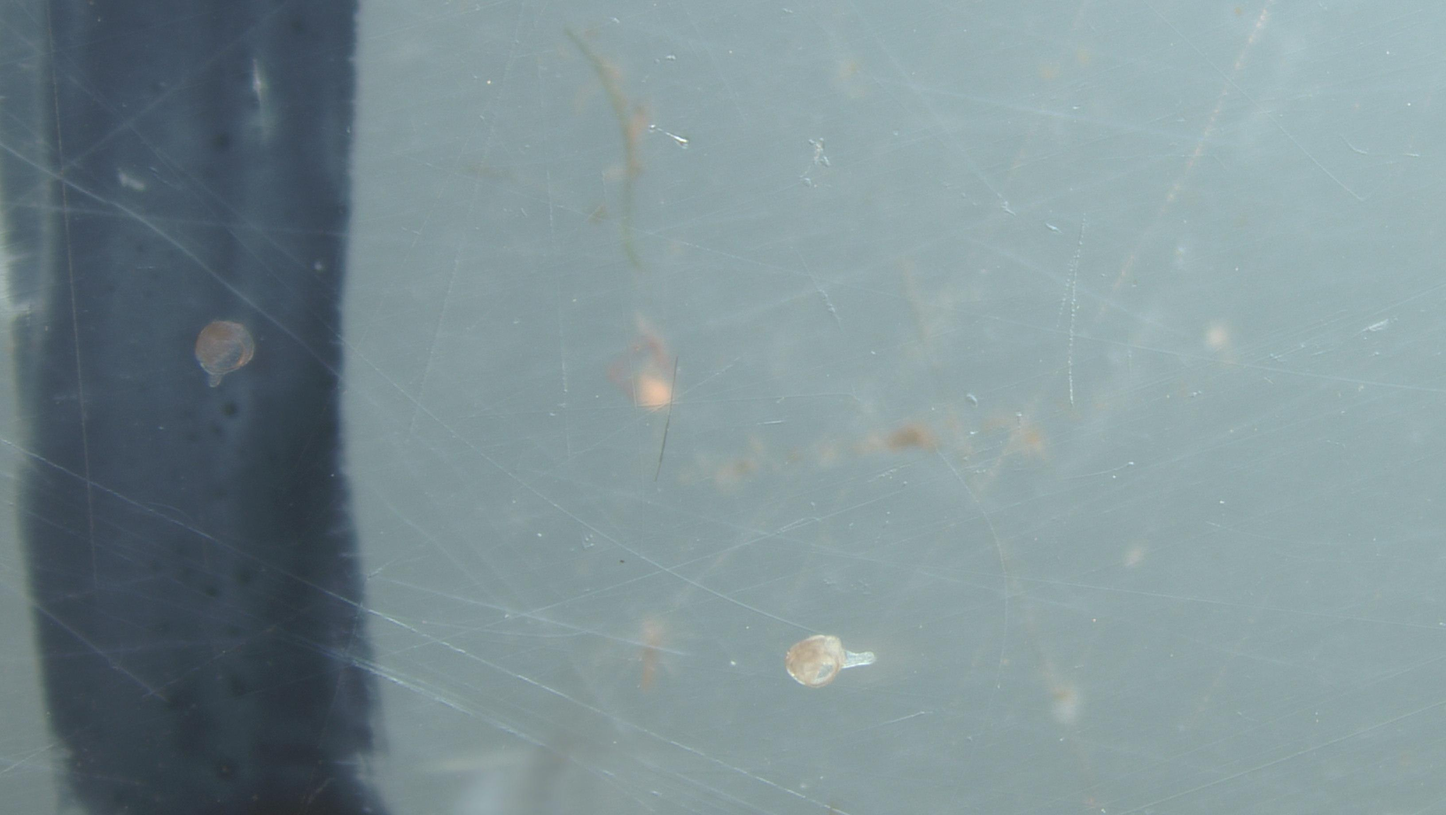live: (787, 636, 874, 687), (195, 321, 256, 387)
